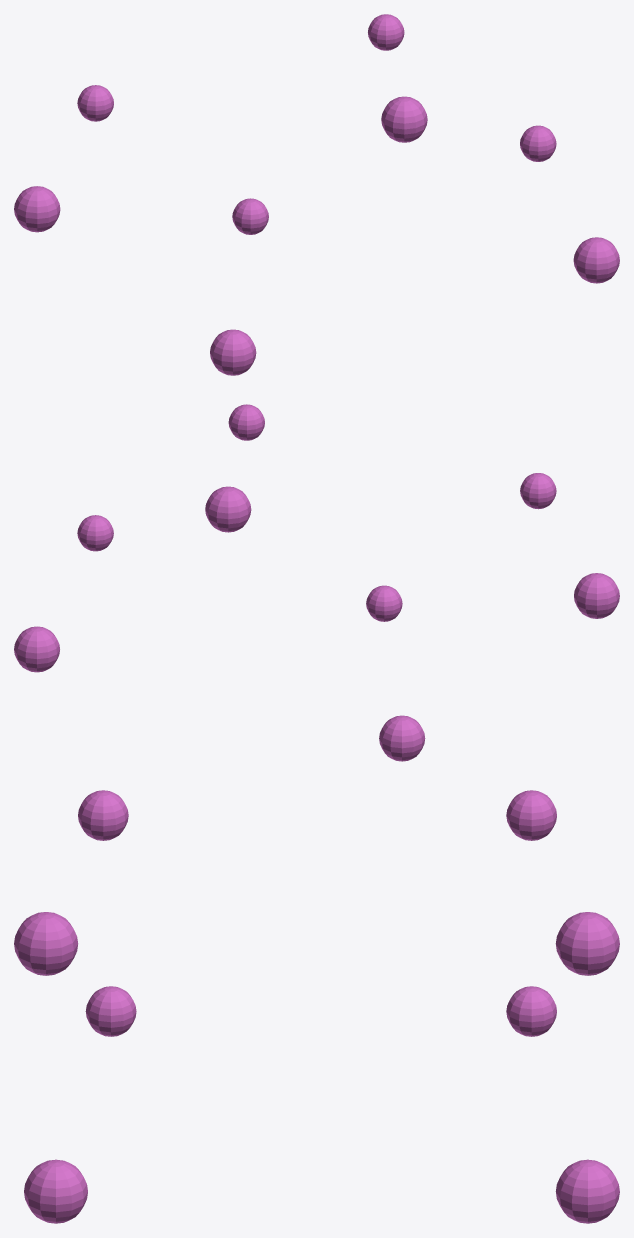
Rendered from meditpinkorbs.dae.
3 views of the same model, one above another, from view 1: azimuth 30°, elevation 25°; view 2: azimuth 150°, elevation 25°; view 3: azimuth 270°, elevation 25° (orthographic). The views are drawn at different scales.
Visible parts, largest first — view 1: Sphere_004, Sphere_006, Sphere_007, Sphere_005, Sphere_010, Sphere_011, Sphere_009, Sphere_008; view 2: Sphere_005, Sphere_007, Sphere_004, Sphere_006, Sphere_010, Sphere_011, Sphere_008, Sphere_009; view 3: Sphere_005, Sphere_006, Sphere_004, Sphere_007, Sphere_008, Sphere_010, Sphere_011, Sphere_009.
Boxes of the visible parts, box(x1,y1,x2,y2) form: Sphere_004: box(381, 96, 427, 142); Sphere_006: box(210, 329, 256, 375); Sphere_007: box(573, 237, 619, 283); Sphere_005: box(14, 186, 60, 232); Sphere_010: box(77, 85, 113, 121); Sphere_011: box(368, 14, 404, 50); Sphere_009: box(232, 198, 268, 234); Sphere_008: box(520, 125, 556, 161); Sphere_005: box(379, 715, 425, 761); Sphere_007: box(205, 486, 251, 532); Sphere_004: box(14, 626, 59, 672); Sphere_006: box(574, 573, 619, 618); Sphere_010: box(366, 585, 402, 621); Sphere_011: box(77, 515, 113, 551); Sphere_008: box(228, 404, 264, 440); Sphere_009: box(520, 473, 556, 509); Sphere_005: box(555, 912, 619, 975); Sphere_006: box(14, 912, 78, 975); Sphere_004: box(555, 1159, 619, 1223); Sphere_007: box(24, 1159, 87, 1223); Sphere_008: box(85, 986, 136, 1036); Sphere_010: box(506, 790, 556, 840); Sphere_011: box(506, 986, 556, 1036); Sphere_009: box(78, 790, 128, 840).
Bounding box in the file's own units: 7.54 × 7.02 × 2.64.
